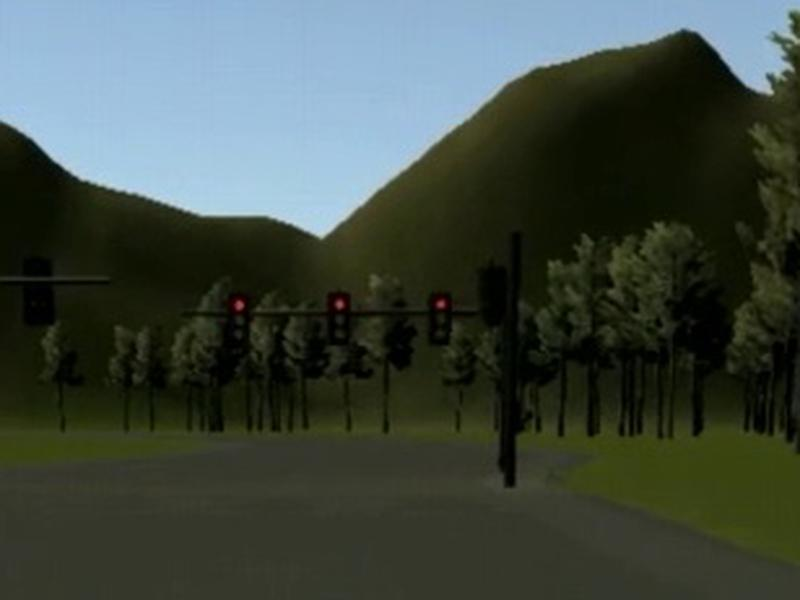Red: (426, 293, 453, 347), (228, 287, 251, 347), (328, 291, 351, 344)
